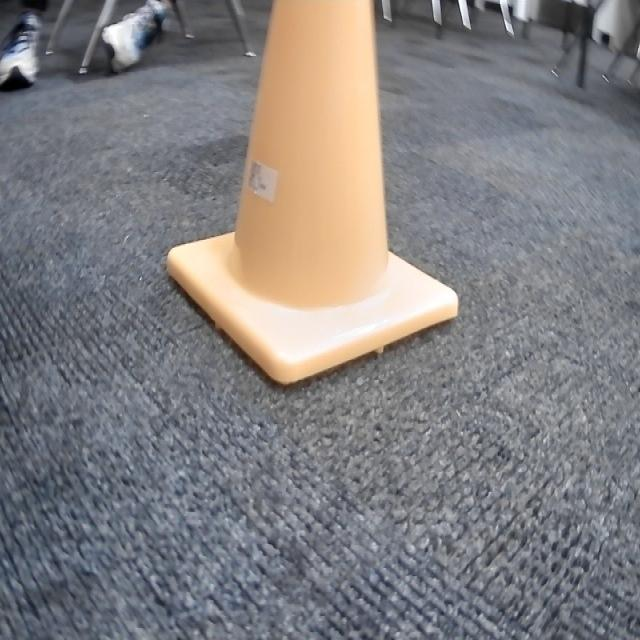cone: (165, 0, 461, 391)
